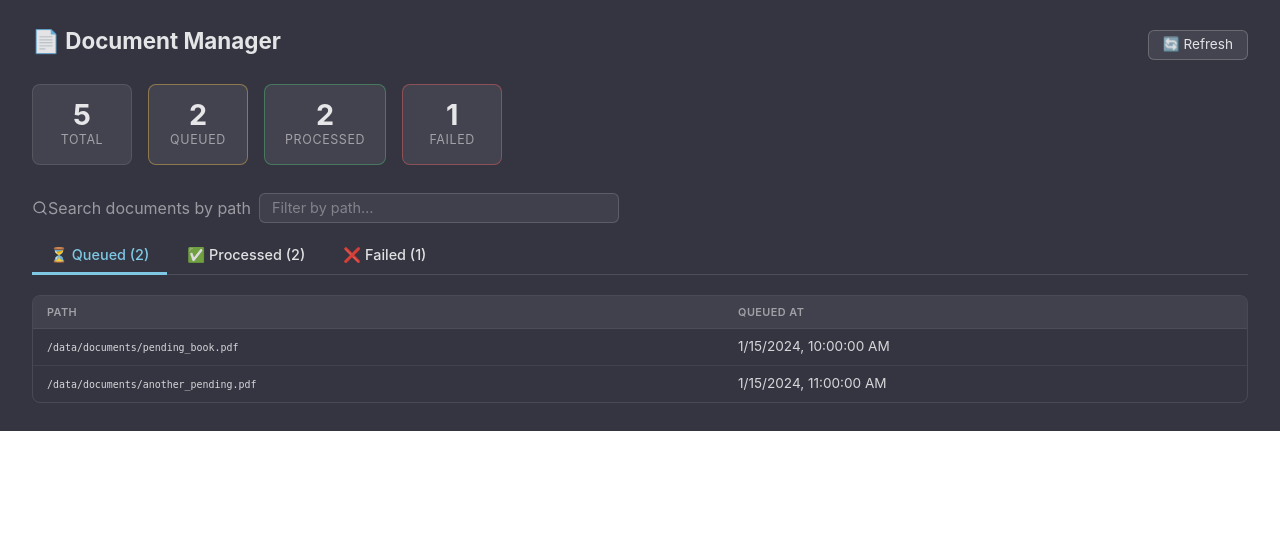
Test: AdminDocumentsPage › expands error details when clicking error text
The width and height of the screenshot is (1280, 533).
Click the tab "❌ Failed (1)" at (385, 257), box [325, 239, 444, 275]
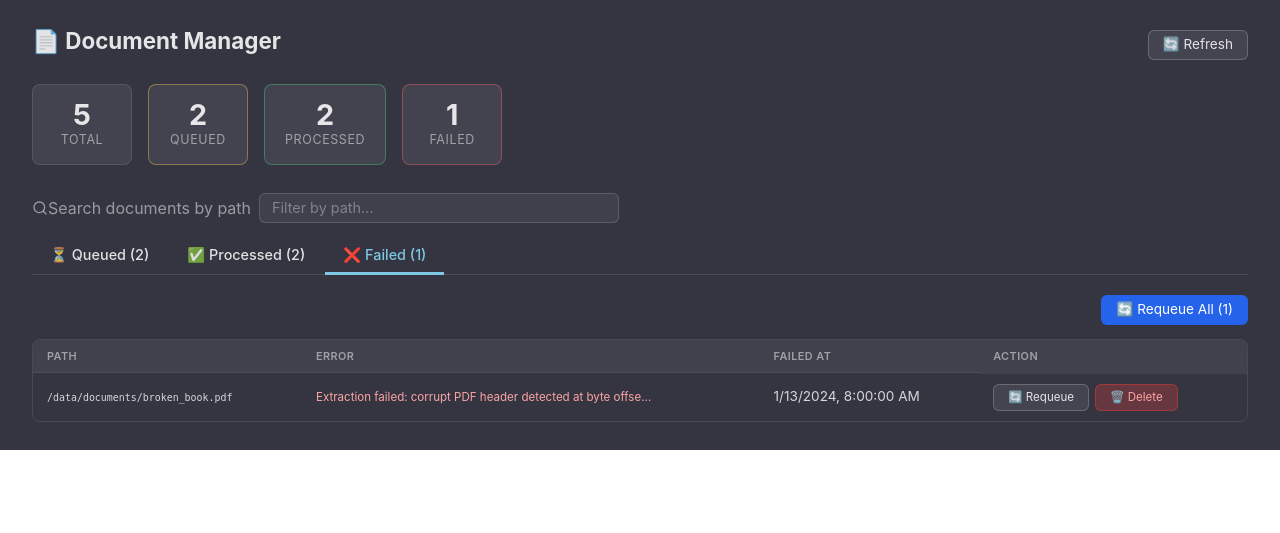
Click the button "Extraction failed" at (484, 398), box [316, 391, 651, 404]
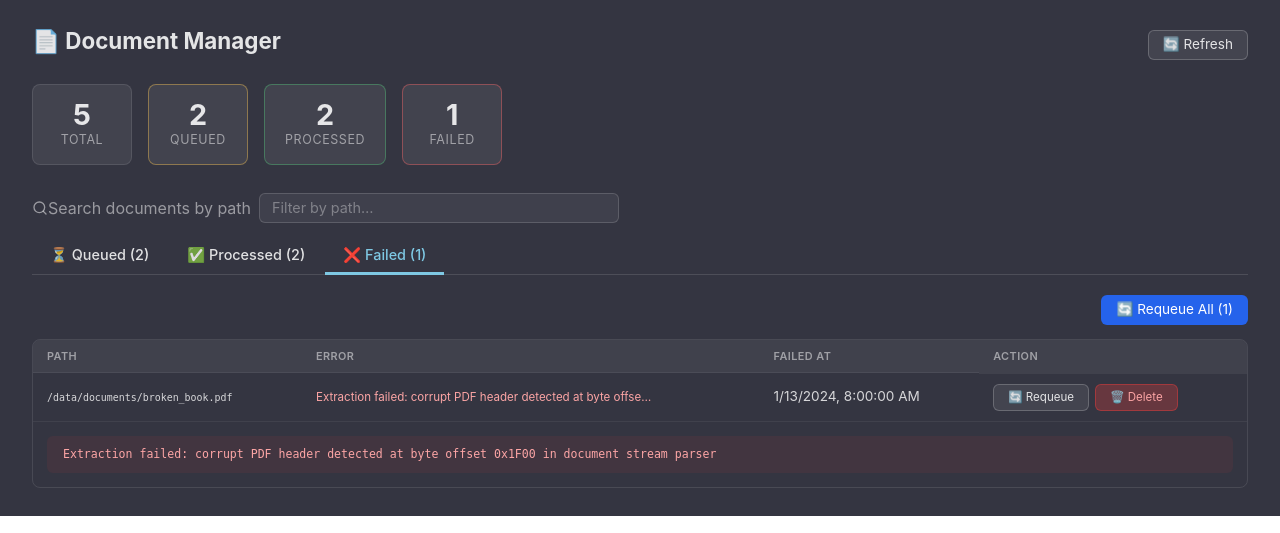
Check: the element named "error details" is shown, box [47, 436, 1233, 473]
Check: the element named "error details" shows "document stream parser", box [63, 447, 716, 461]
